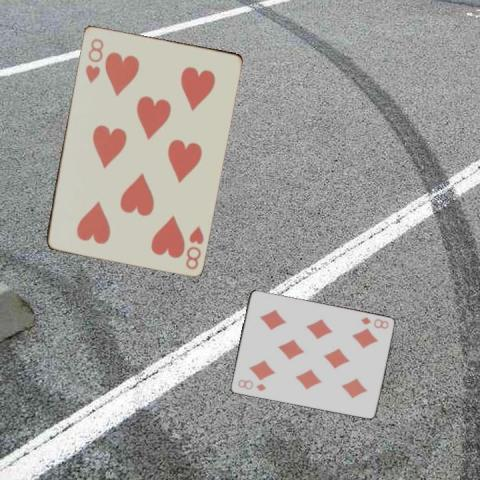8d: (357, 314, 390, 331), (234, 376, 266, 392)
8h: (82, 34, 105, 84), (182, 223, 205, 271)
